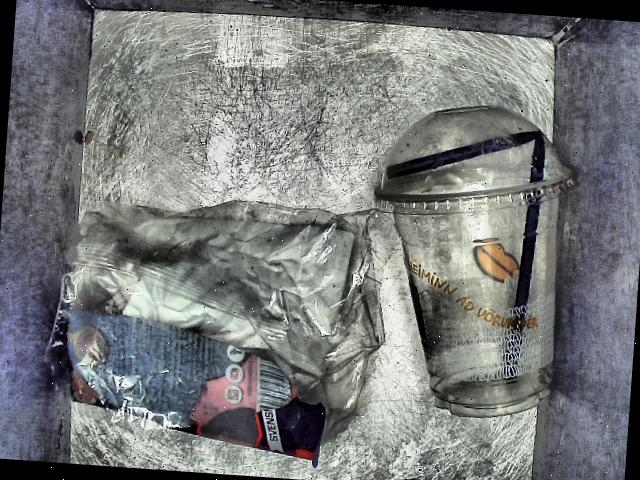Plastic: (29, 178, 396, 464), (365, 97, 585, 420)
